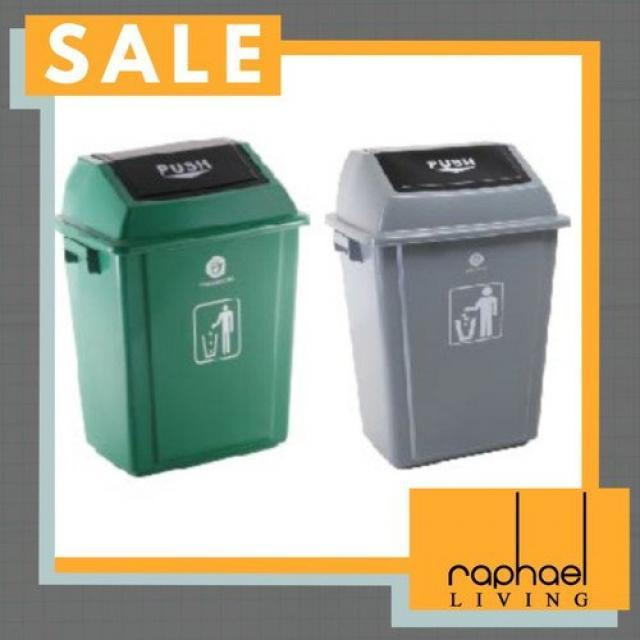Dumpster: (61, 138, 308, 476), (328, 141, 570, 469)
